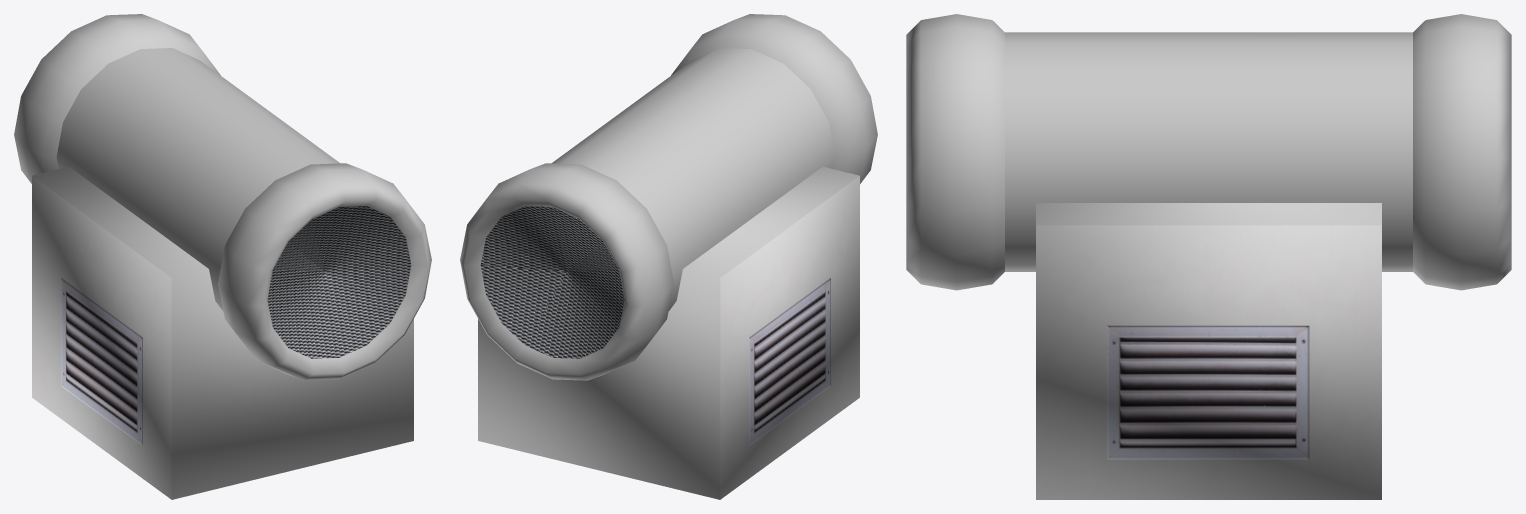
The model's file is power_station.obj.
3 views of the same model, side by side, from view 1: azimuth 30°, elevation 25°; view 2: azimuth 150°, elevation 25°; view 3: azimuth 270°, elevation 25° (orthographic). The views are drawn at different scales.
Bounding box in the file's own units: 2 × 2.55 × 3.5.
